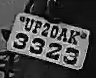0: (49, 24, 58, 41)
2: (46, 42, 62, 63), (40, 21, 50, 39)
3: (64, 46, 79, 67), (14, 32, 28, 52), (30, 39, 45, 57)
A: (57, 26, 67, 43)
K: (69, 28, 79, 45)
P: (31, 19, 41, 34)
U: (24, 17, 34, 32)
